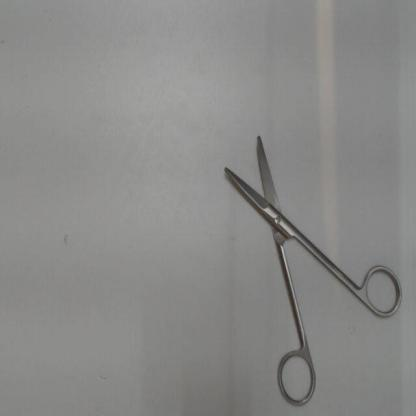Curved Mayo Scissors: (221, 119, 408, 415)
